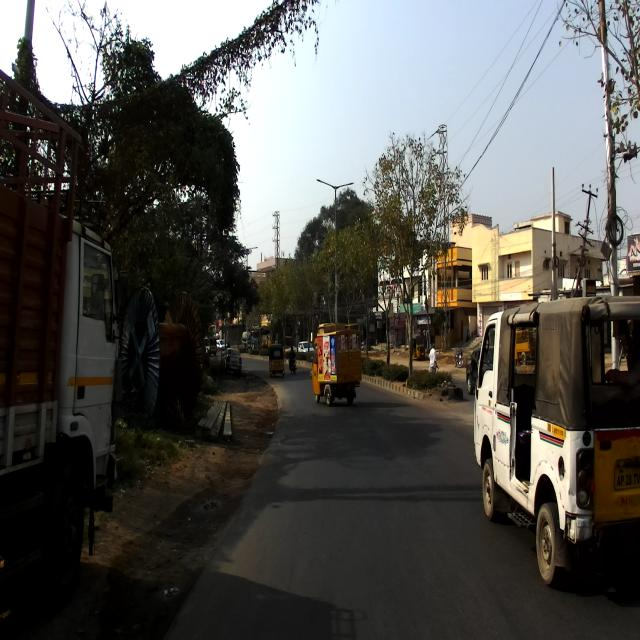car ahead at: (470, 306, 640, 576)
truck ahead at: (0, 66, 128, 562), (313, 321, 366, 411)
